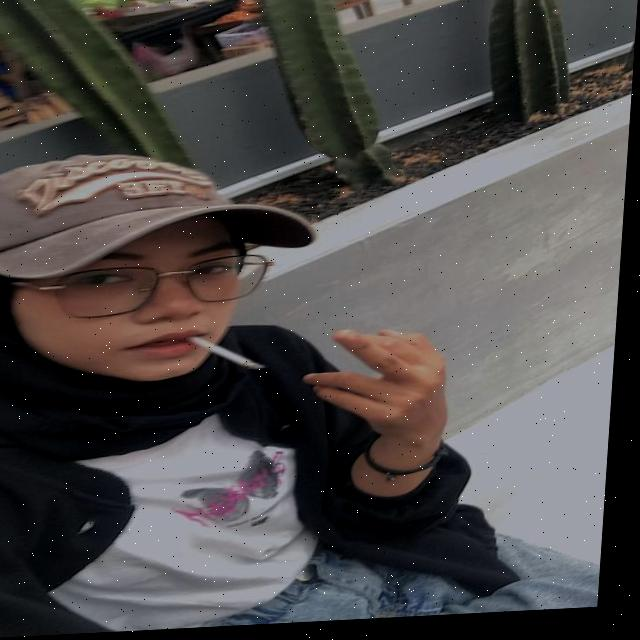cigarette: (188, 332, 271, 378)
